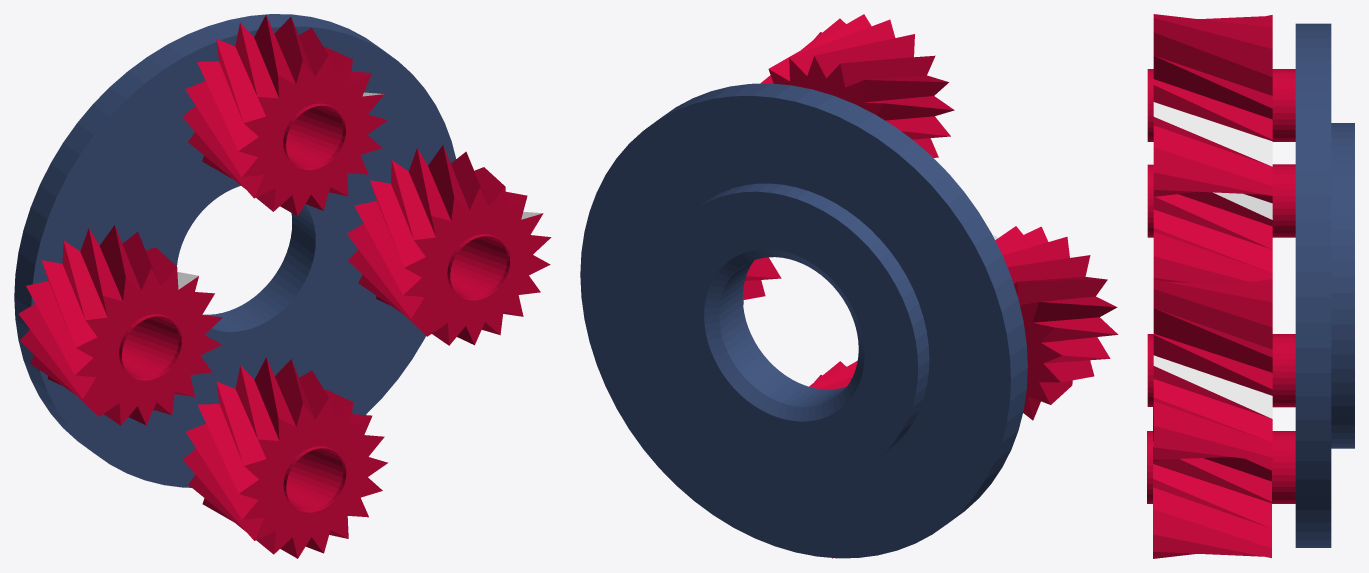
Rendered from planet gears.fbx.
3 renders of one model, left to right at view 1: azimuth 30°, elevation 25°; view 2: azimuth 150°, elevation 25°; view 3: azimuth 270°, elevation 25°, orthographic. The views are drawn at different scales.
Visible parts, largest first — view 1: planet carrier, planet 2, planet 4, planet 3, planet 1; view 2: planet carrier, planet 4, planet 1, planet 2, planet 3; view 3: planet carrier, planet 2, planet 1, planet 3, planet 4.
Part boxes in pixels (<box>): planet carrier: <box>14,14,455,487</box>; planet 2: <box>347,145,551,345</box>; planet 4: <box>18,225,222,425</box>; planet 3: <box>182,357,388,558</box>; planet 1: <box>182,15,387,215</box>; planet carrier: <box>580,83,1027,558</box>; planet 4: <box>993,226,1118,420</box>; planet 1: <box>760,14,954,157</box>; planet 2: <box>742,257,781,304</box>; planet 3: <box>809,361,857,558</box>; planet carrier: <box>1295,23,1354,547</box>; planet 2: <box>1147,279,1295,461</box>; planet 1: <box>1147,14,1295,196</box>; planet 3: <box>1147,407,1295,558</box>; planet 4: <box>1147,164,1295,283</box>.
Size of the model in its own units: 980 by 977 by 350.
